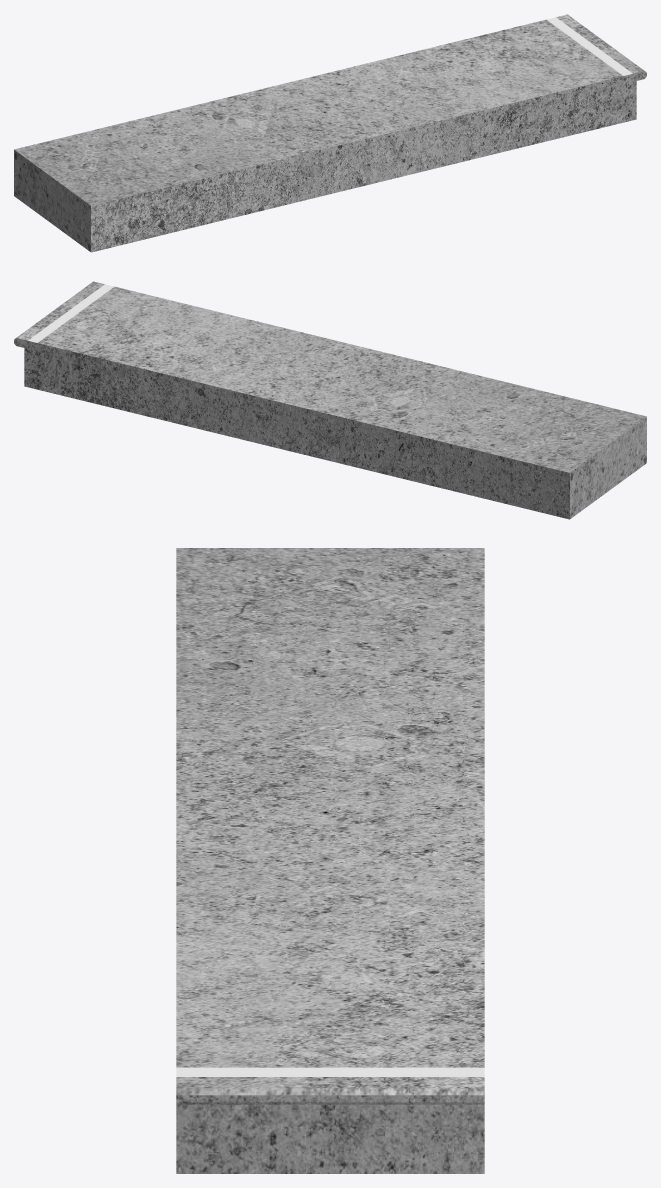
Rendered from PlatformGround2.FBX.
3 views of the same model, one above another, from view 1: azimuth 30°, elevation 25°; view 2: azimuth 150°, elevation 25°; view 3: azimuth 270°, elevation 25° (orthographic). The views are drawn at different scales.
Visible parts, largest first — view 1: PlatformGround2; view 2: PlatformGround2; view 3: PlatformGround2.
Boxes of the visible parts, x1=… form: PlatformGround2: x1=14, y1=14, x2=646, y2=252; PlatformGround2: x1=14, y1=281, x2=646, y2=519; PlatformGround2: x1=176, y1=548, x2=484, y2=1173.
Size of the model in its own units: 24959 by 6000 by 2000.
1 material, 1 textured.
